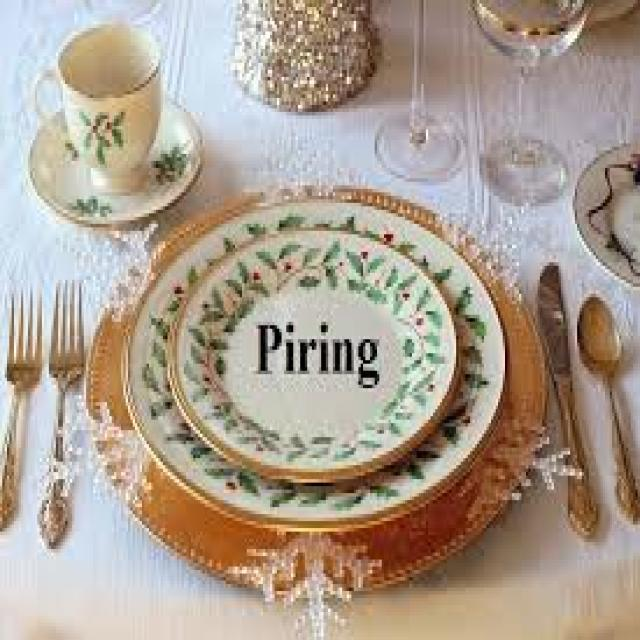Plate: (119, 187, 517, 537)
